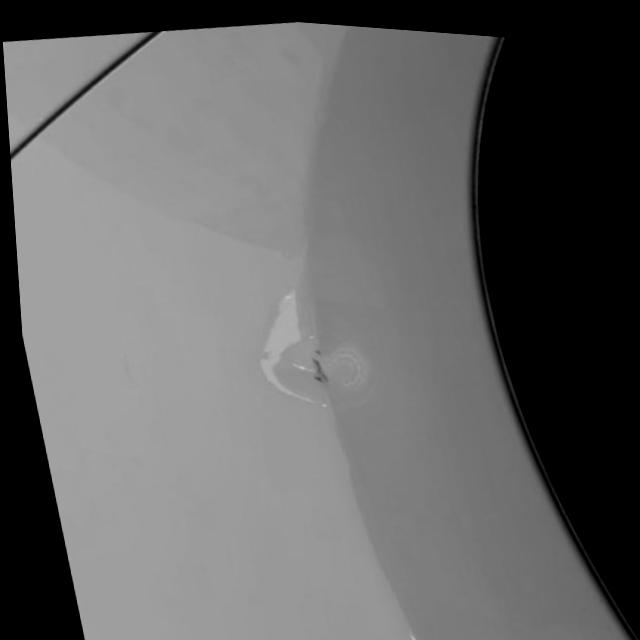Dent: (262, 293, 387, 417)
Scratch: (310, 348, 330, 391)
